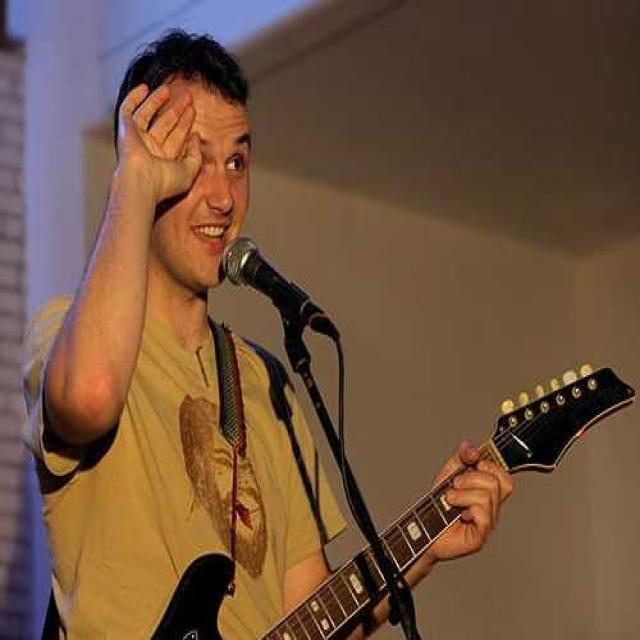microphone: (218, 232, 323, 336)
